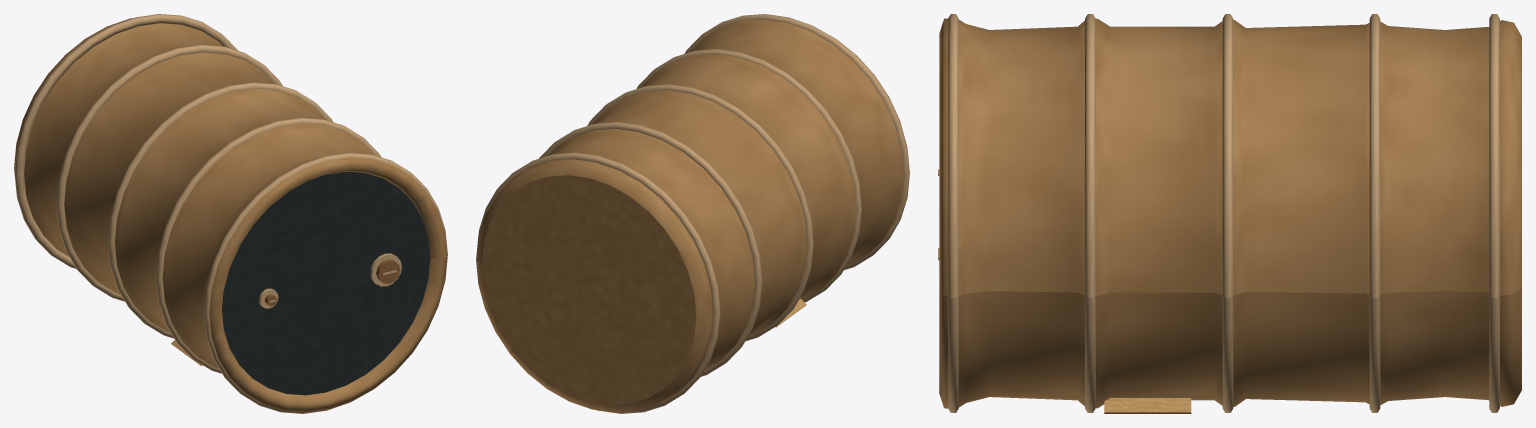
Rendered from ASSET_DRUM_200L_STEEL.glb.
3 views of the same model, side by side, from view 1: azimuth 30°, elevation 25°; view 2: azimuth 150°, elevation 25°; view 3: azimuth 270°, elevation 25° (orthographic). The views are drawn at different scales.
Parts seen in each view (by area): view 1: DRUM_200L_STEEL_rolled_blue_body, DRUM_200L_STEEL_recessed_head, DRUM_200L_STEEL_reinforcement_hoop_1, DRUM_200L_STEEL_reinforcement_hoop_2, DRUM_200L_STEEL_reinforcement_hoop_3, DRUM_200L_STEEL_reinforcement_hoop_4, DRUM_200L_STEEL_reinforcement_hoop_5, DRUM_200L_STEEL_bung_1_plug, DRUM_200L_STEEL_bung_1_boss; view 2: DRUM_200L_STEEL_rolled_blue_body, DRUM_200L_STEEL_reinforcement_hoop_1, DRUM_200L_STEEL_reinforcement_hoop_2, DRUM_200L_STEEL_reinforcement_hoop_3, DRUM_200L_STEEL_reinforcement_hoop_5, DRUM_200L_STEEL_reinforcement_hoop_4; view 3: DRUM_200L_STEEL_rolled_blue_body, DRUM_200L_STEEL_reinforcement_hoop_2, DRUM_200L_STEEL_reinforcement_hoop_3, DRUM_200L_STEEL_reinforcement_hoop_5, DRUM_200L_STEEL_reinforcement_hoop_4, DRUM_200L_STEEL_reinforcement_hoop_1, DRUM_200L_STEEL_blue_warning_band_08.
Part boxes in pixels (x1,y1,x2,y2): DRUM_200L_STEEL_rolled_blue_body: (14, 18, 447, 412); DRUM_200L_STEEL_recessed_head: (222, 171, 430, 395); DRUM_200L_STEEL_reinforcement_hoop_1: (14, 14, 237, 268); DRUM_200L_STEEL_reinforcement_hoop_2: (56, 44, 282, 301); DRUM_200L_STEEL_reinforcement_hoop_3: (108, 82, 332, 338); DRUM_200L_STEEL_reinforcement_hoop_4: (156, 117, 381, 373); DRUM_200L_STEEL_reinforcement_hoop_5: (204, 152, 447, 413); DRUM_200L_STEEL_bung_1_plug: (376, 259, 400, 283); DRUM_200L_STEEL_bung_1_boss: (370, 253, 401, 286); DRUM_200L_STEEL_rolled_blue_body: (476, 19, 903, 412); DRUM_200L_STEEL_reinforcement_hoop_1: (478, 152, 720, 413); DRUM_200L_STEEL_reinforcement_hoop_2: (539, 122, 762, 376); DRUM_200L_STEEL_reinforcement_hoop_3: (587, 84, 813, 341); DRUM_200L_STEEL_reinforcement_hoop_5: (684, 14, 909, 270); DRUM_200L_STEEL_reinforcement_hoop_4: (636, 49, 861, 302); DRUM_200L_STEEL_rolled_blue_body: (939, 18, 1521, 408); DRUM_200L_STEEL_reinforcement_hoop_2: (1369, 14, 1380, 412); DRUM_200L_STEEL_reinforcement_hoop_3: (1222, 14, 1233, 412); DRUM_200L_STEEL_reinforcement_hoop_5: (948, 14, 958, 412); DRUM_200L_STEEL_reinforcement_hoop_4: (1085, 14, 1095, 412); DRUM_200L_STEEL_reinforcement_hoop_1: (1489, 14, 1499, 412); DRUM_200L_STEEL_blue_warning_band_08: (1104, 398, 1191, 412).
Bounding box in the file's own units: 0.598 × 0.598 × 0.874.
Materials: 1 (1 with a texture image).
